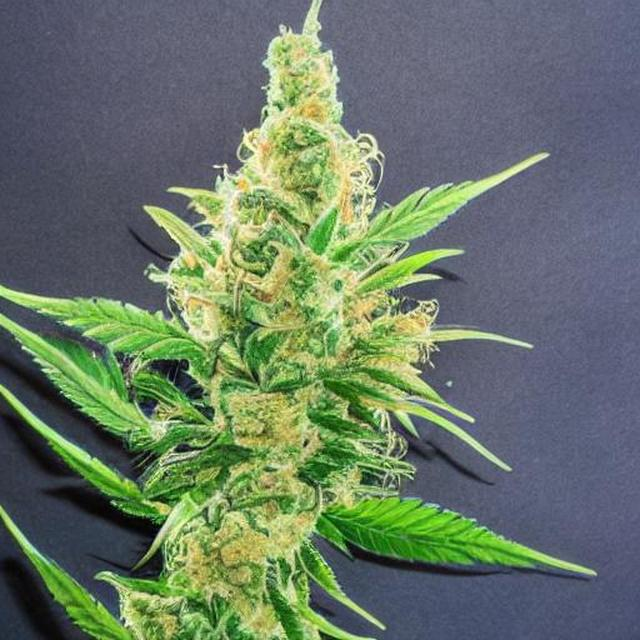Marijuana Plant: (19, 23, 624, 624)
